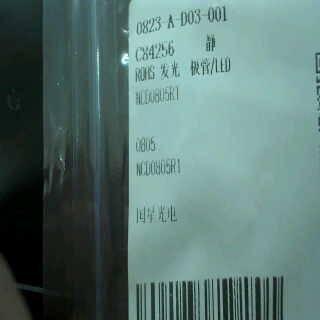LED: (158, 57, 237, 83)
